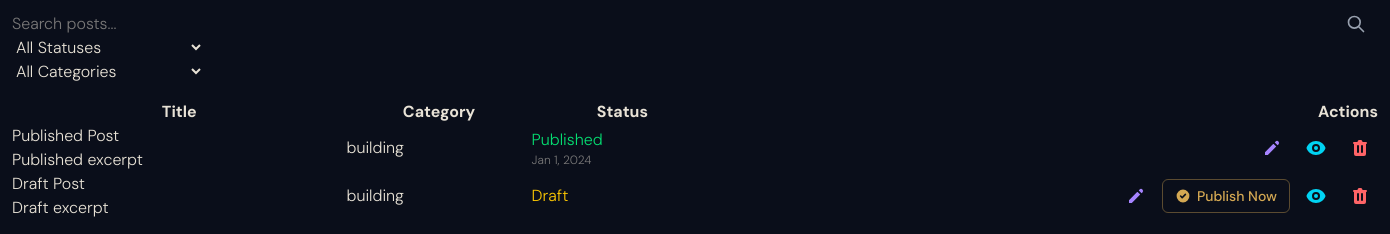
Test: PostsTable › Search and Filter Integration › shows empty state when no draft posts match filter
Step 1. Type "Nonexistent" into the field with placeholder "Search posts..." → [695, 24], box x1=12 y1=12 x2=1378 y2=36
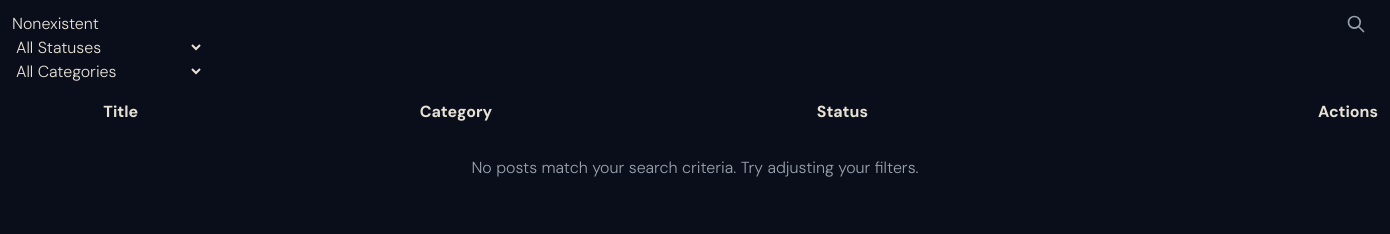
Expected: the link "view" is not shown
Expected: the text "No posts match your search criteria" is shown, x1=471 y1=157 x2=918 y2=178
